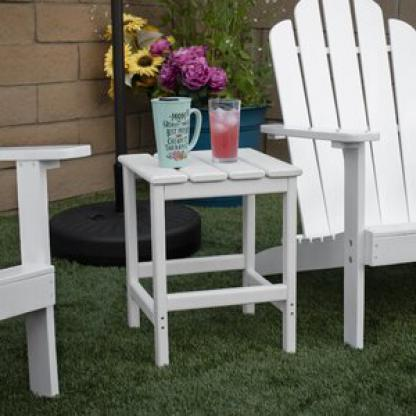table: (114, 140, 314, 370)
